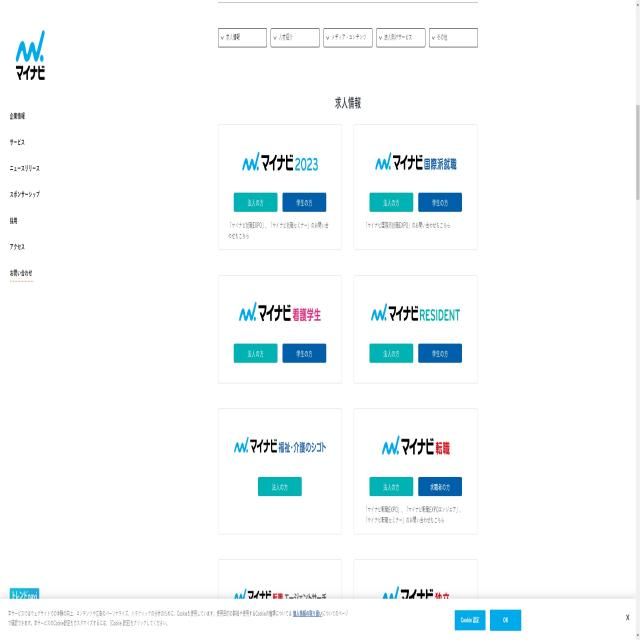menu-panel: (2, 101, 54, 294)
